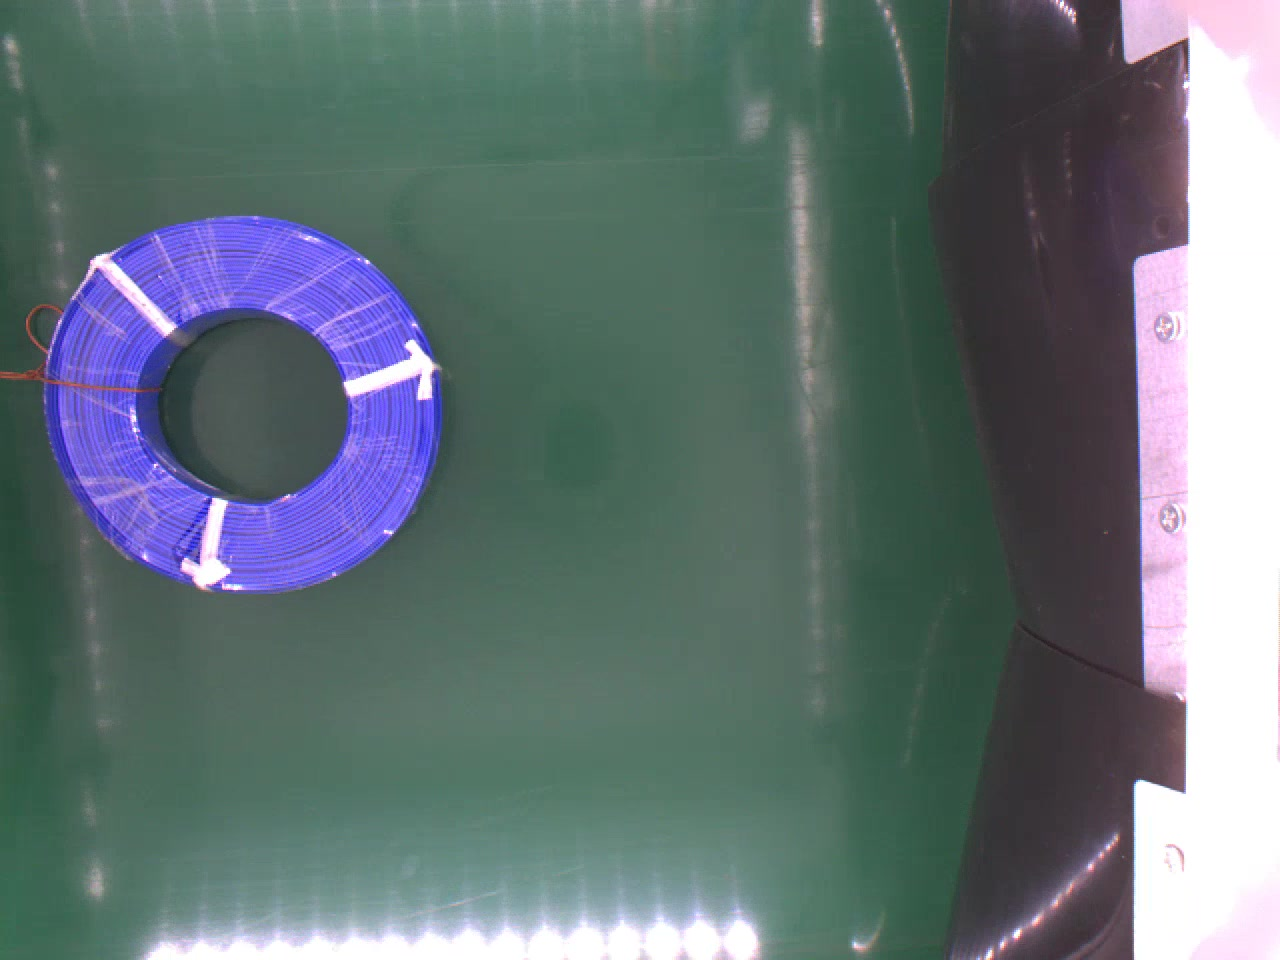blue: (49, 215, 442, 593)
